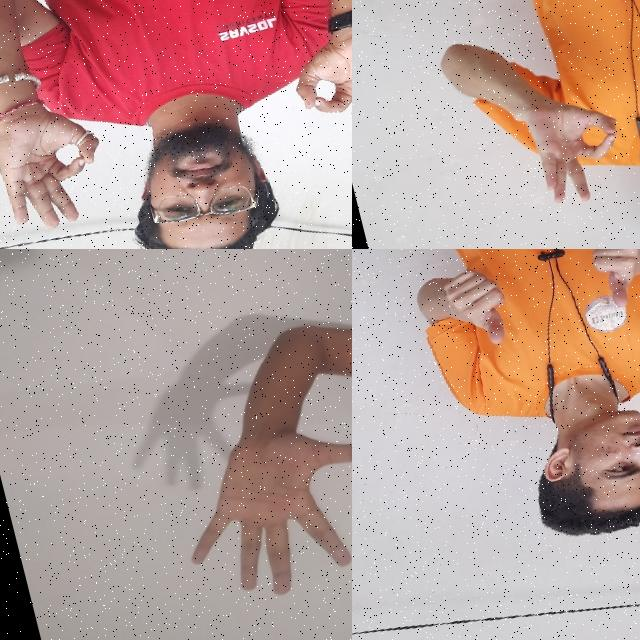Moutza: (156, 370, 352, 623)
Okay: (0, 80, 124, 249), (513, 80, 638, 224), (275, 15, 352, 183)
Thumbs Up: (432, 252, 524, 360), (579, 249, 640, 317)
